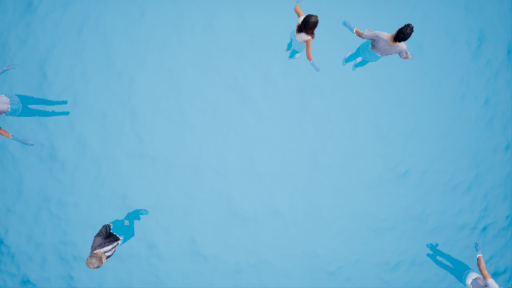person: (75, 202, 157, 273), (337, 17, 421, 79), (1, 76, 60, 144), (274, 4, 328, 75), (423, 244, 508, 288)
